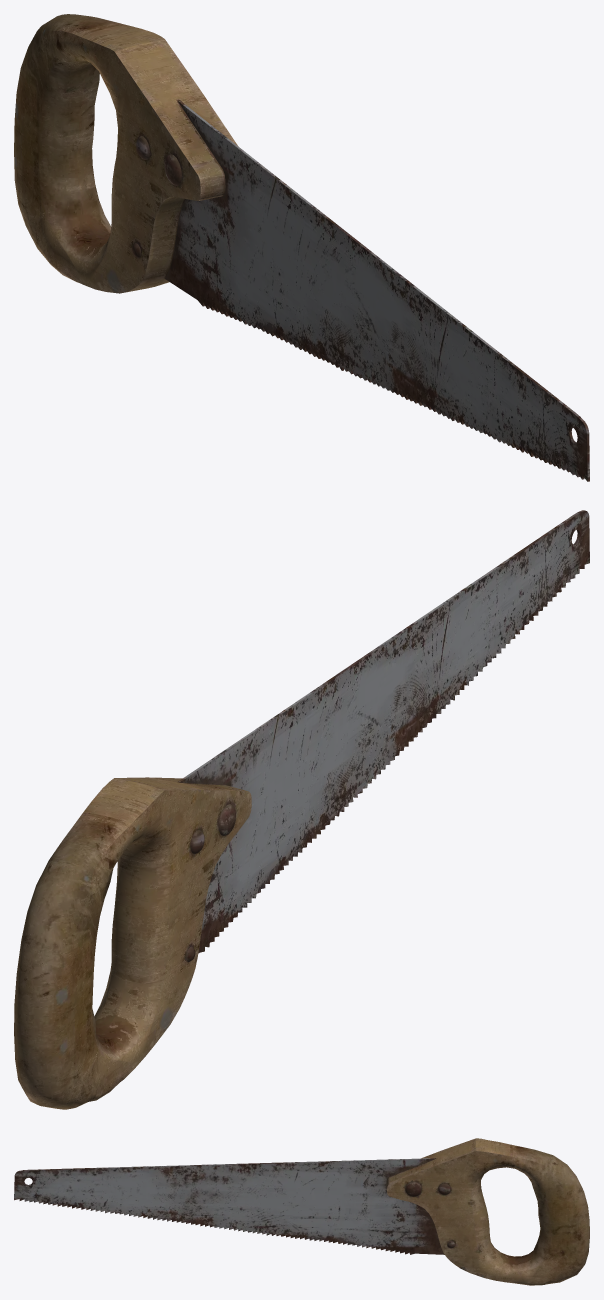
The model's file is handsaw_wood.glb.
The picture shows the model from 3 angles, top to bottom: view 1: azimuth 30°, elevation 25°; view 2: azimuth 150°, elevation 25°; view 3: azimuth 270°, elevation 25°; orthographic projection. The views are drawn at different scales.
Parts seen in each view (by area): view 1: handsaw_wood; view 2: handsaw_wood; view 3: handsaw_wood.
Part boxes in pixels (box(x1,y1,x2,y2)): handsaw_wood: box(14, 14, 589, 481); handsaw_wood: box(14, 510, 589, 1109); handsaw_wood: box(14, 1138, 589, 1285).
Size of the model in its own units: 0.0408 by 0.1665 by 0.633.
Materials: 1 (1 with a texture image).
